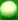white: (0, 0, 18, 20)
